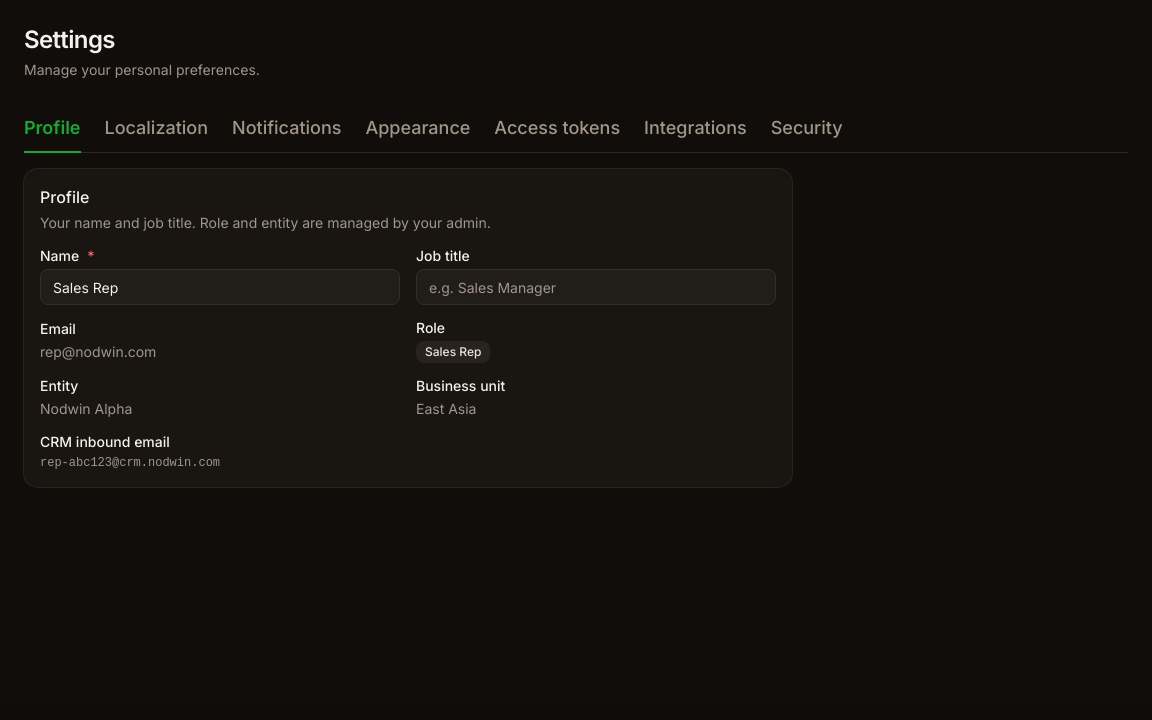
Scenario: SettingsView › notes Slack is admin-configured (Notifications) and shows the localization note
The width and height of the screenshot is (1152, 720).
Click the tab "Notifications": click(287, 128) [232,104,342,153]
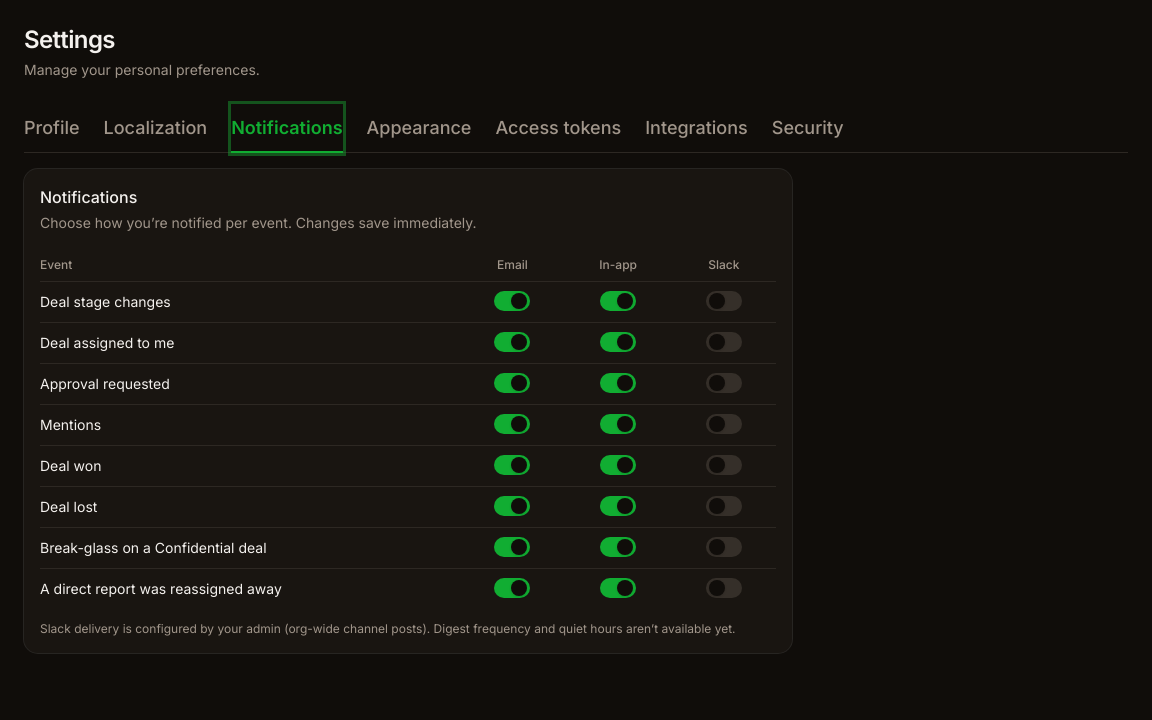
Expected: the text "Slack delivery is configured by your admin" is shown, [40,621,736,636]
Click the tab "Localization": click(155, 128) [104,104,207,153]
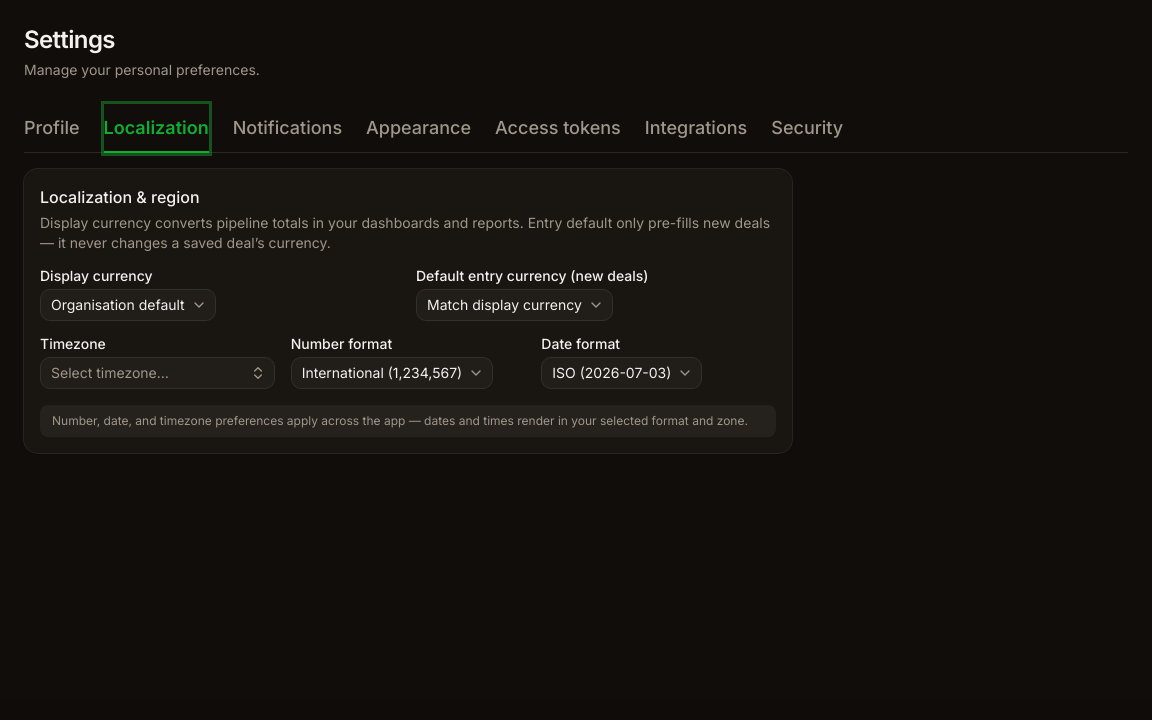
Expected: the text "Number, date, and timezone preferences apply across the app" is shown, [52,413,748,428]
